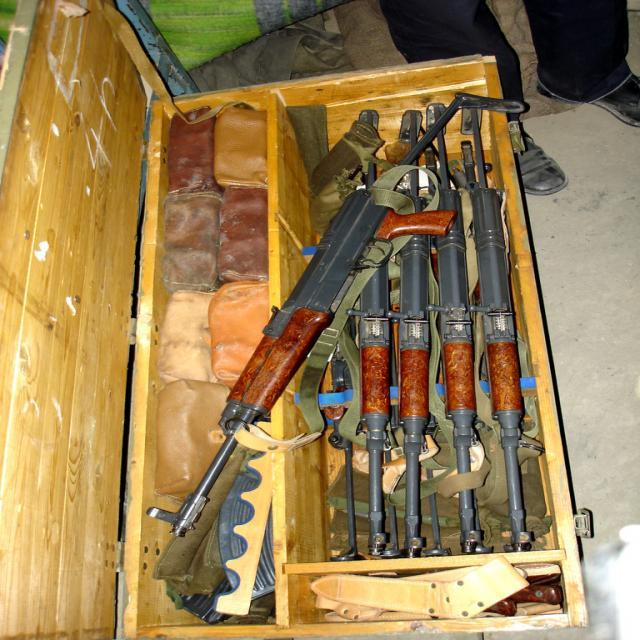weapon: (182, 68, 552, 618)
